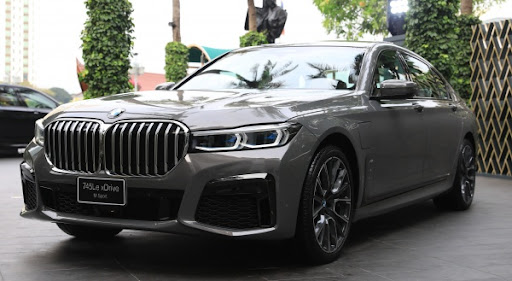car: (17, 38, 485, 262)
